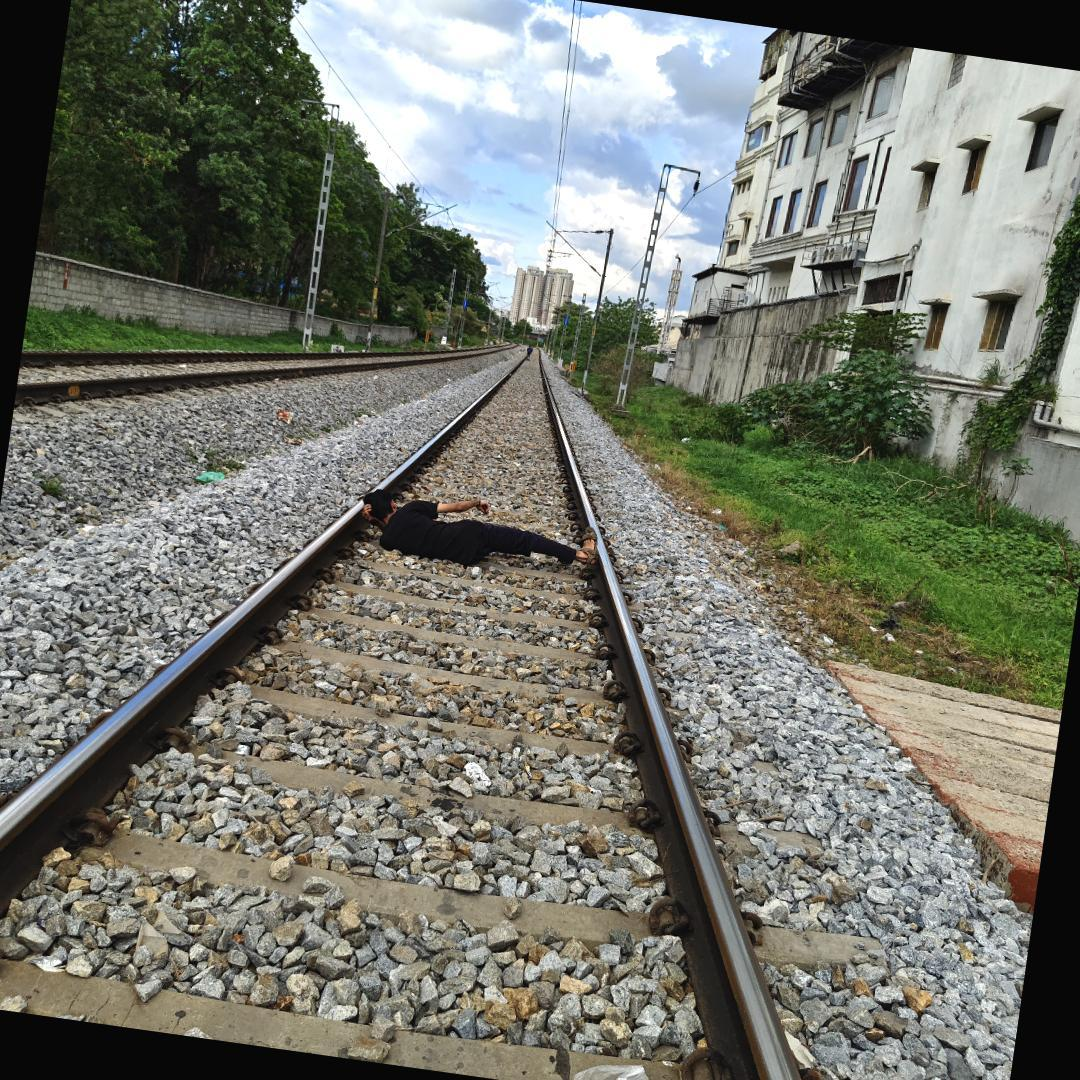sleeping: (340, 478, 616, 591)
